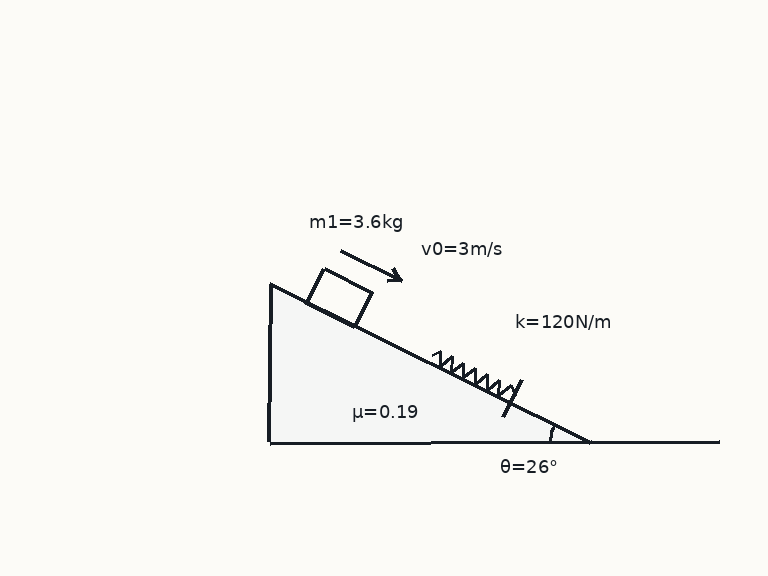block: (304, 266, 373, 329)
ramp: (267, 283, 592, 444)
spring: (428, 349, 516, 397)
